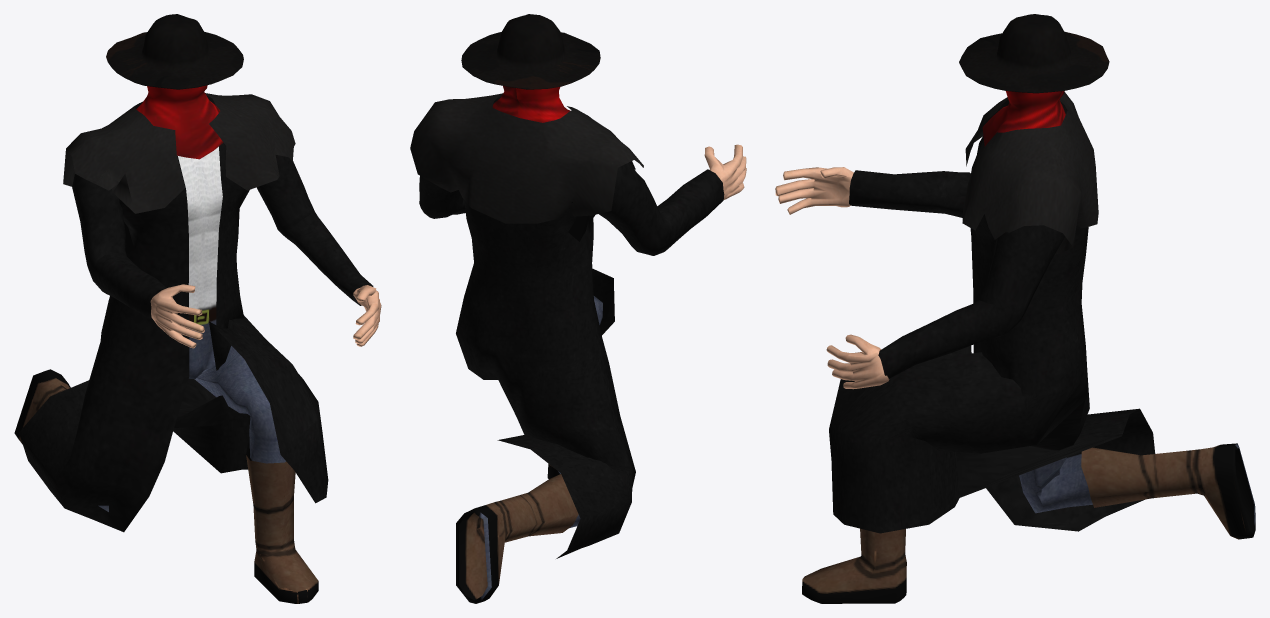
File: U_Suck_2.obj
3 renders of one model, left to right at view 1: azimuth 30°, elevation 25°; view 2: azimuth 150°, elevation 25°; view 3: azimuth 270°, elevation 25°, orthographic. The views are drawn at different scales.
Parts seen in each view (by area): view 1: Undertaker_4:Undertaker_4:Undertaker; view 2: Undertaker_4:Undertaker_4:Undertaker; view 3: Undertaker_4:Undertaker_4:Undertaker.
Boxes of the visible parts, box(x1,y1,x2,y2) form: Undertaker_4:Undertaker_4:Undertaker: box(14, 14, 381, 603); Undertaker_4:Undertaker_4:Undertaker: box(410, 14, 746, 603); Undertaker_4:Undertaker_4:Undertaker: box(775, 14, 1255, 603).
Size of the model in its own units: 1.17 by 2.35 by 1.82.
1 material, 1 textured.
